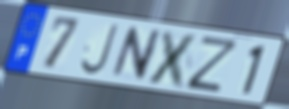1: (241, 44, 270, 96)
7: (43, 15, 81, 72)
J: (78, 22, 121, 78)
N: (108, 25, 164, 83)
X: (144, 28, 203, 91)
Z: (184, 33, 242, 95)
